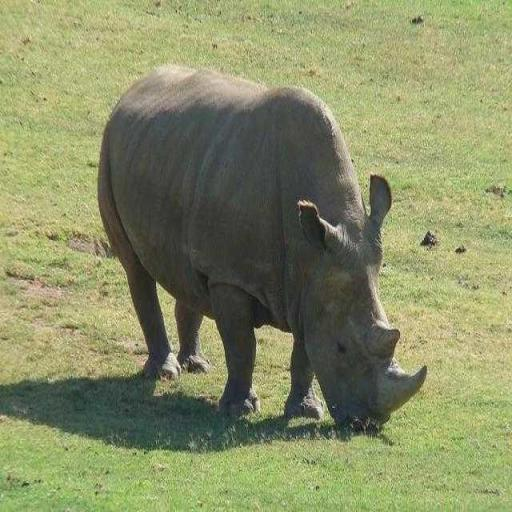Rhino: (96, 62, 428, 435)
